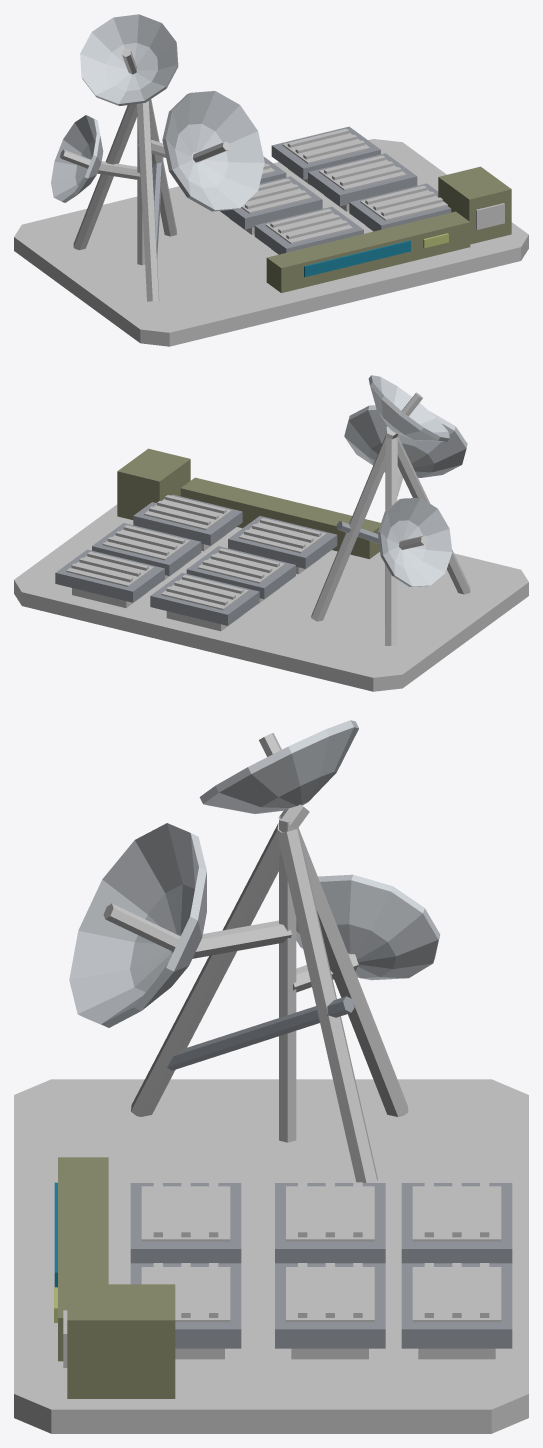
The model's file is sun_blocker.obj.
3 renders of one model, top to bottom at view 1: azimuth 30°, elevation 25°; view 2: azimuth 150°, elevation 25°; view 3: azimuth 270°, elevation 25°, orthographic. The views are drawn at different scales.
Visible parts, largest first — view 1: sun_blocker; view 2: sun_blocker; view 3: sun_blocker.
Part boxes in pixels (left/top/right/bottom): sun_blocker: left=14, top=14, right=528, bottom=346; sun_blocker: left=14, top=375, right=528, bottom=691; sun_blocker: left=14, top=720, right=528, bottom=1433.
Size of the model in its own units: 5.86 by 3.64 by 3.86.
